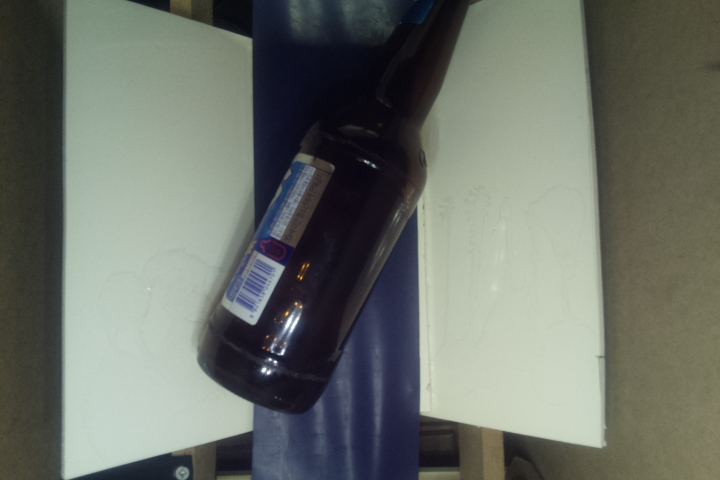makju: (193, 1, 482, 416)
